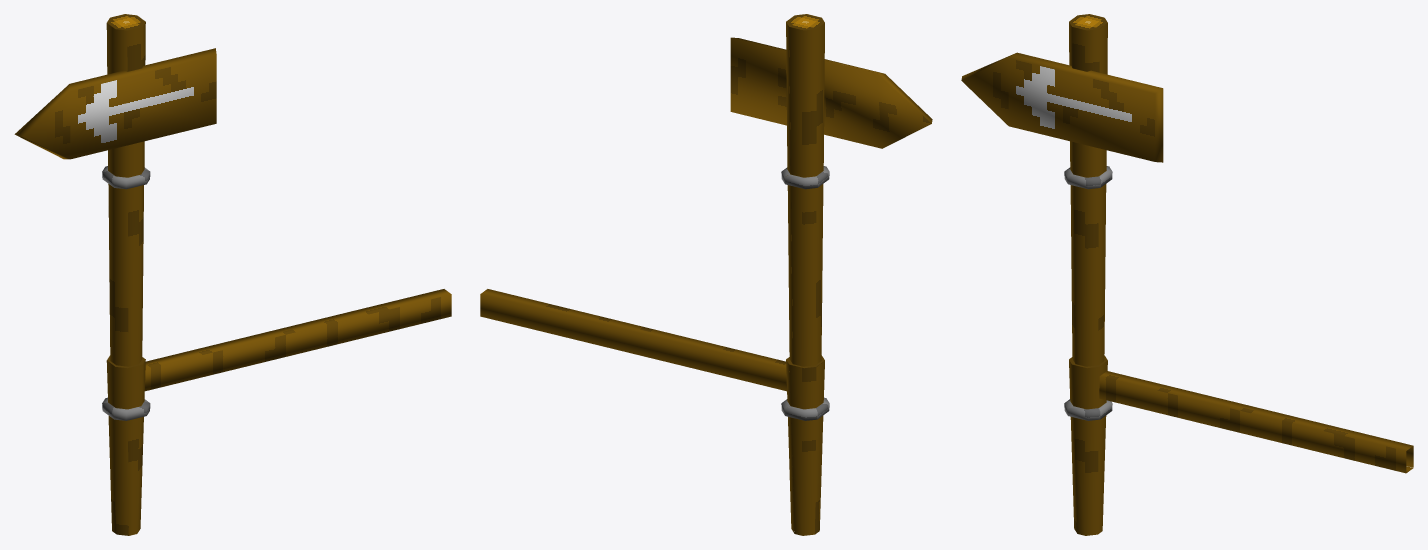
The model's file is BosProps.fbx.
The picture shows the model from 3 angles, left to right: view 1: azimuth 30°, elevation 25°; view 2: azimuth 150°, elevation 25°; view 3: azimuth 330°, elevation 25°; orthographic projection.
Parts seen in each view (by area): view 1: Bord, BordPaal, HekBalk, HekPaal; view 2: BordPaal, Bord, HekBalk, HekPaal; view 3: Bord, BordPaal, HekBalk, HekPaal.
Part boxes in pixels (left/top/right/bottom): Bord: left=14, top=48, right=216, bottom=159; BordPaal: left=102, top=14, right=150, bottom=366; HekBalk: left=145, top=289, right=451, bottom=391; HekPaal: left=102, top=355, right=150, bottom=535; BordPaal: left=781, top=14, right=829, bottom=521; Bord: left=730, top=37, right=932, bottom=148; HekBalk: left=480, top=289, right=789, bottom=391; HekPaal: left=781, top=355, right=829, bottom=535; Bord: left=961, top=52, right=1163, bottom=162; BordPaal: left=1064, top=14, right=1112, bottom=366; HekBalk: left=1099, top=371, right=1413, bottom=473; HekPaal: left=1064, top=355, right=1112, bottom=535.
Bounding box in the file's own units: 1.14 × 1.25 × 0.0999.
